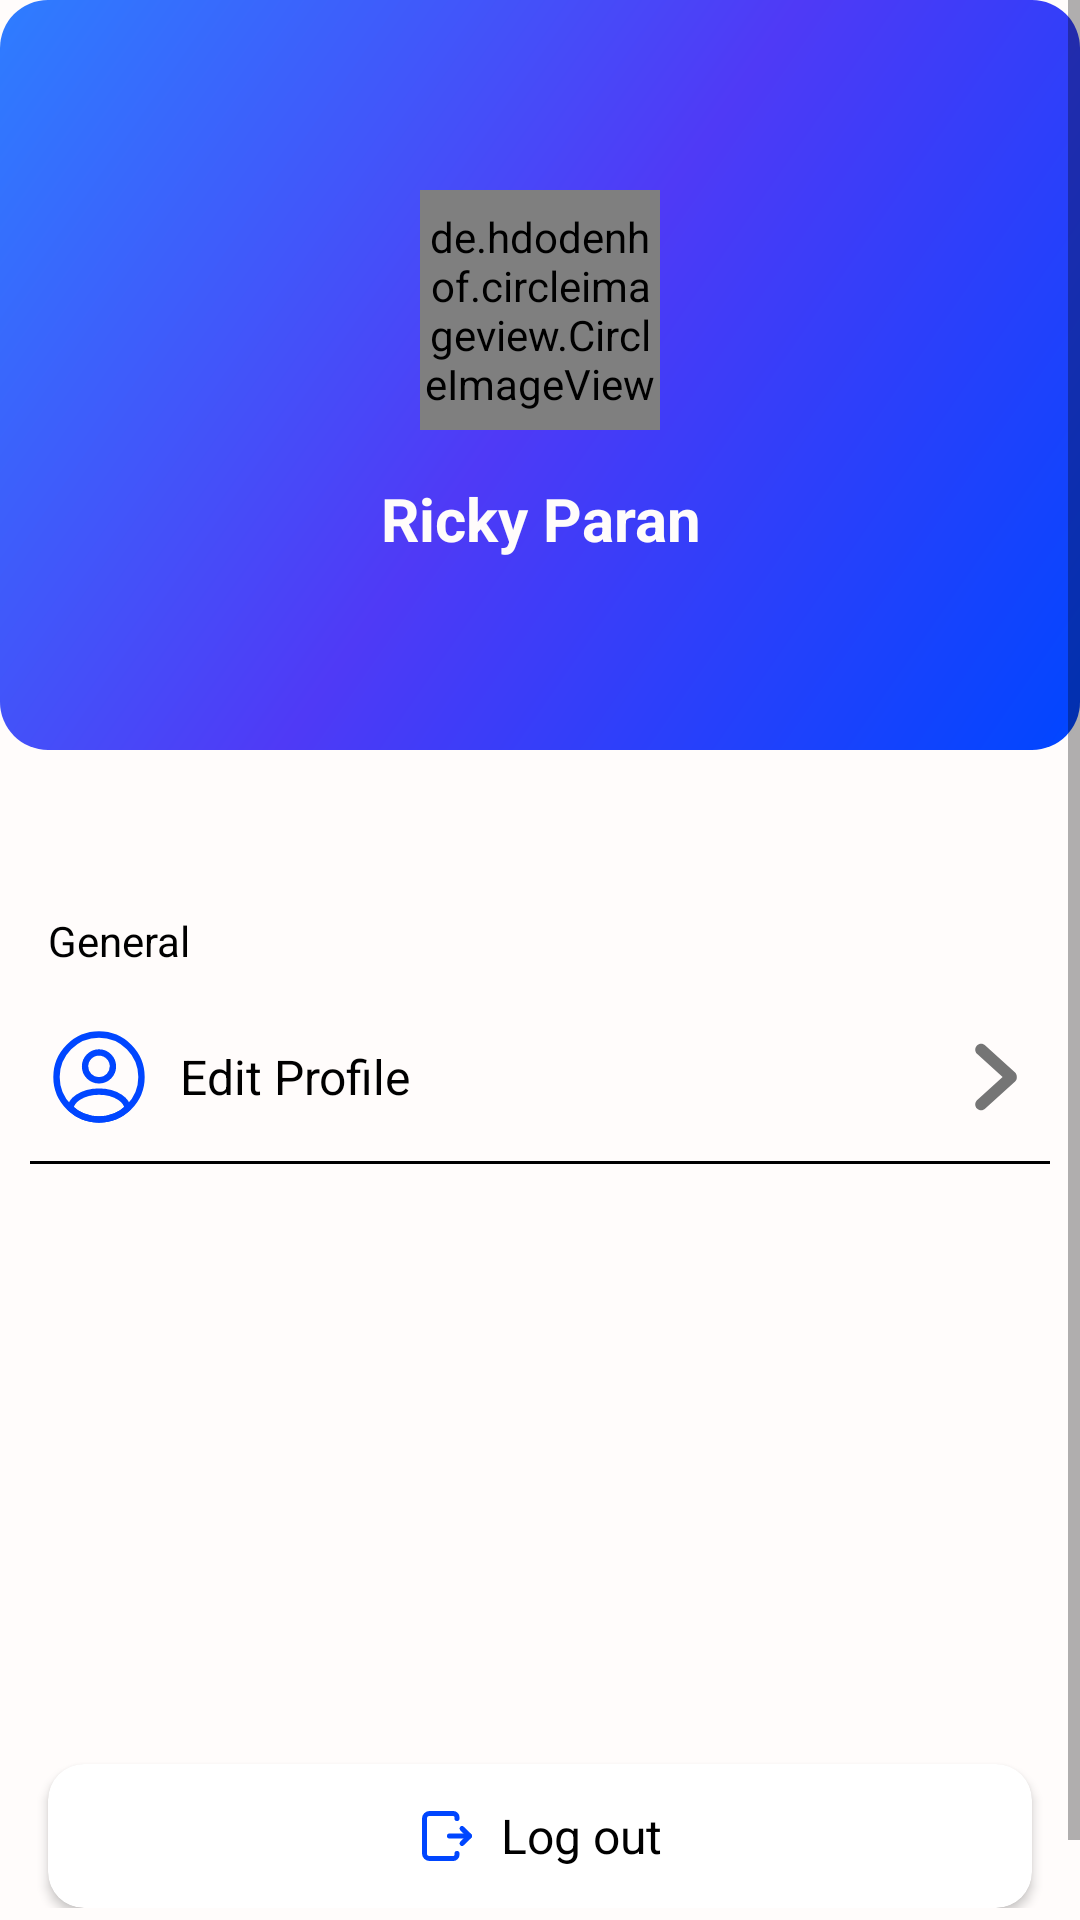

Screen size 1080 x 1920. Icon name, then its box in pixels as [x1, y1, x2, y2]:
chevron right: [975, 1043, 1017, 1111]
